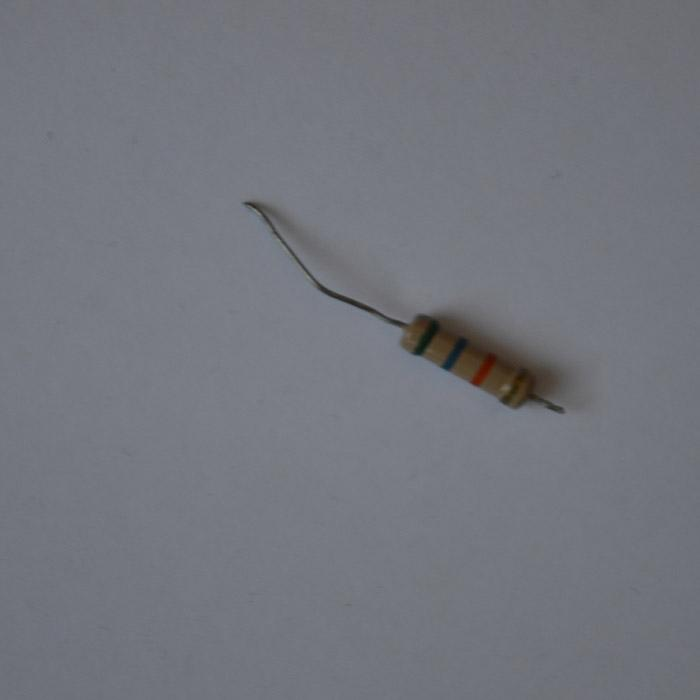resistor: (399, 313, 538, 411)
